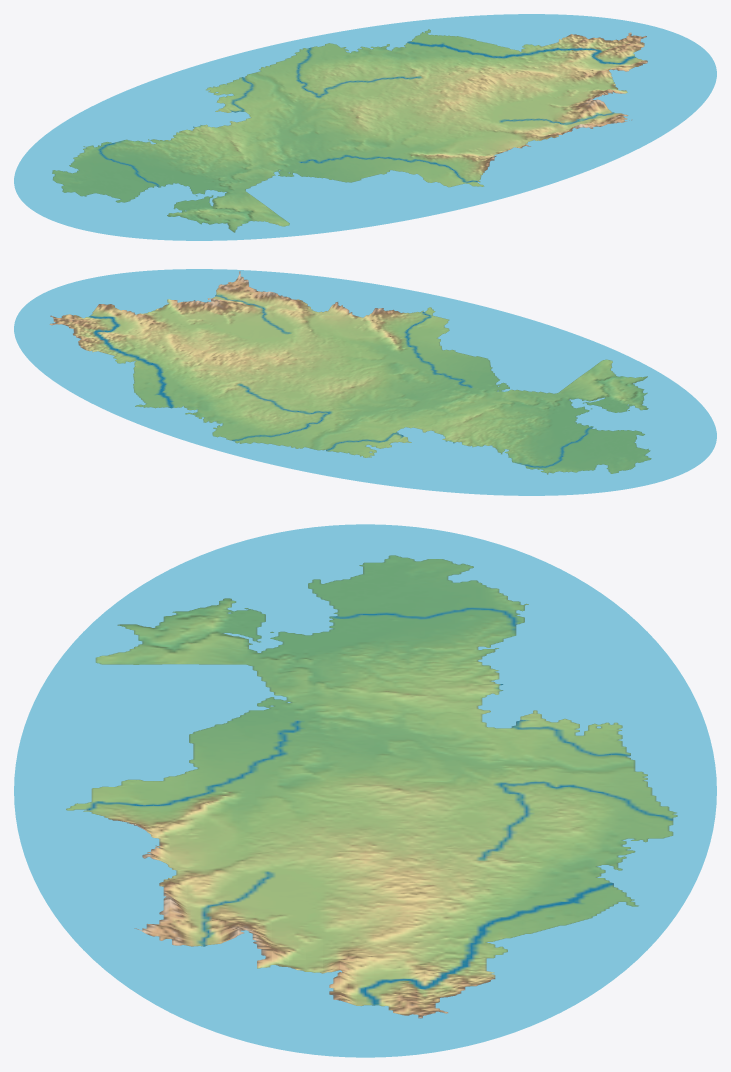
Rendered from KAZ-terrain.glb.
The picture shows the model from 3 angles, top to bottom: view 1: azimuth 30°, elevation 25°; view 2: azimuth 150°, elevation 25°; view 3: azimuth 270°, elevation 25°; orthographic projection. The views are drawn at different scales.
Visible parts, largest first — view 1: Relevo com hidrografia; view 2: Relevo com hidrografia; view 3: Relevo com hidrografia.
Boxes of the visible parts, x1,y1,x2,y2 form: Relevo com hidrografia: [14, 14, 716, 240]; Relevo com hidrografia: [14, 269, 716, 495]; Relevo com hidrografia: [14, 524, 716, 1057].
Bounding box in the file's own units: 1.82 × 0.0303 × 1.01.
Materials: 2 (1 with a texture image).
